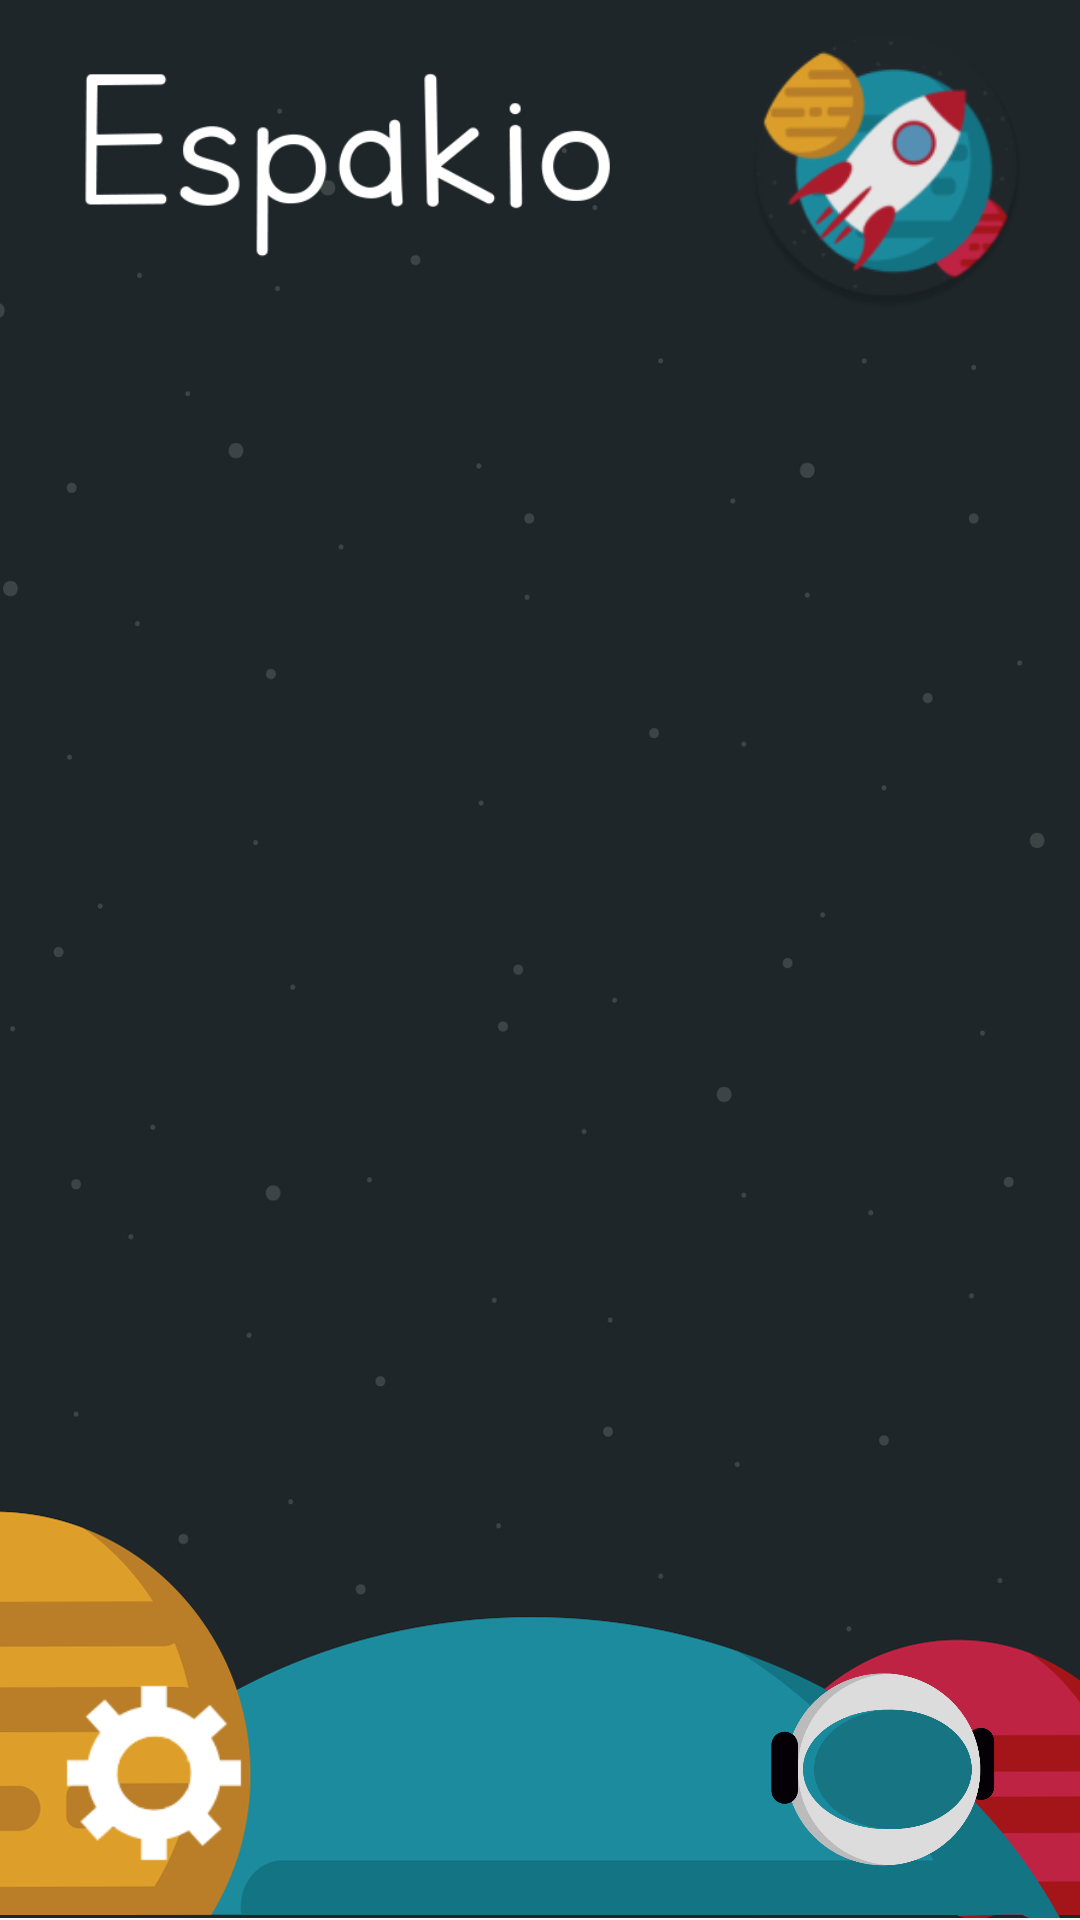

Named icons in this screenshot (1080×1920) and their centers, [x,y]:
astronauta: [883,1773]
config espakio: [154,1773]
